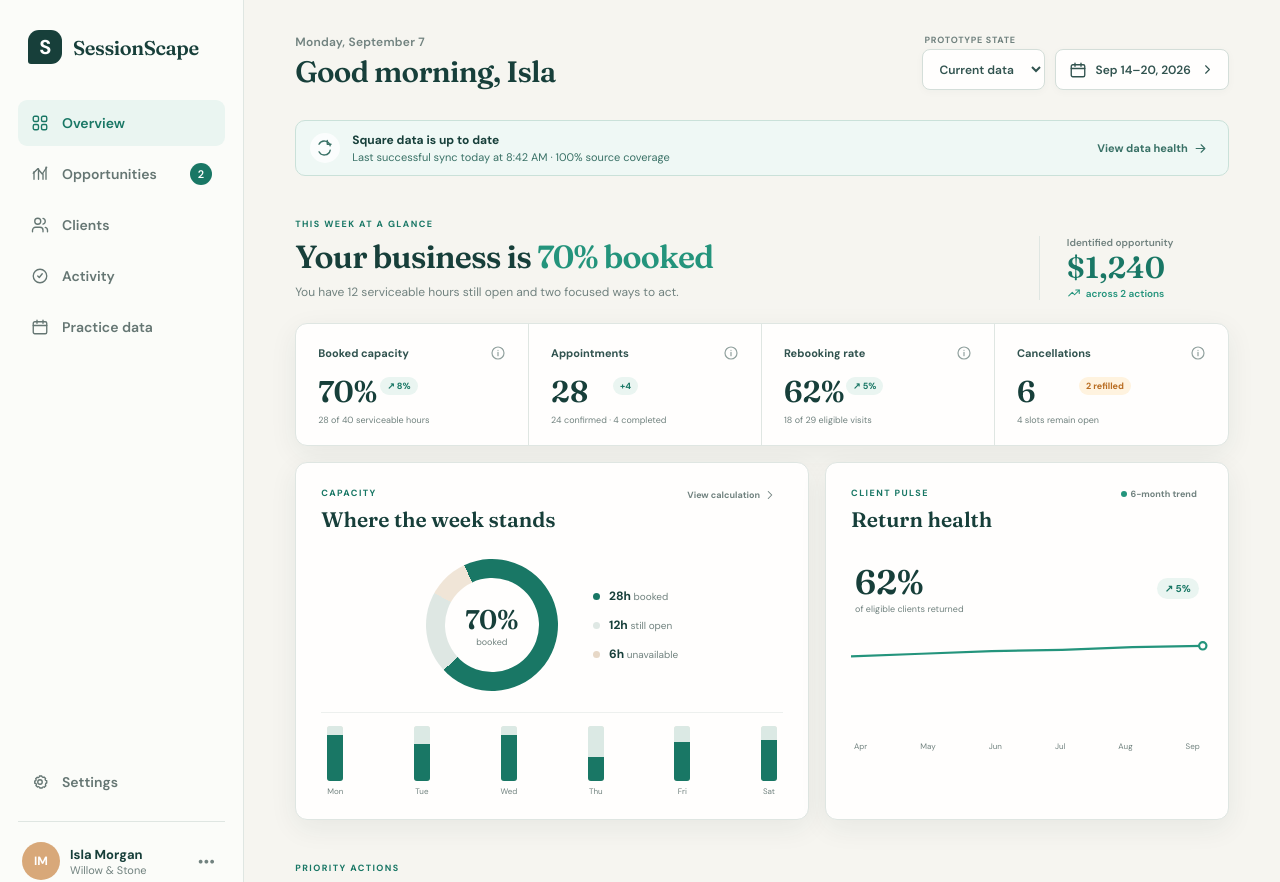
selects the current local week after client hydration
Click the link "Practice data".
click(92, 327)  # box [31,318,153,336]
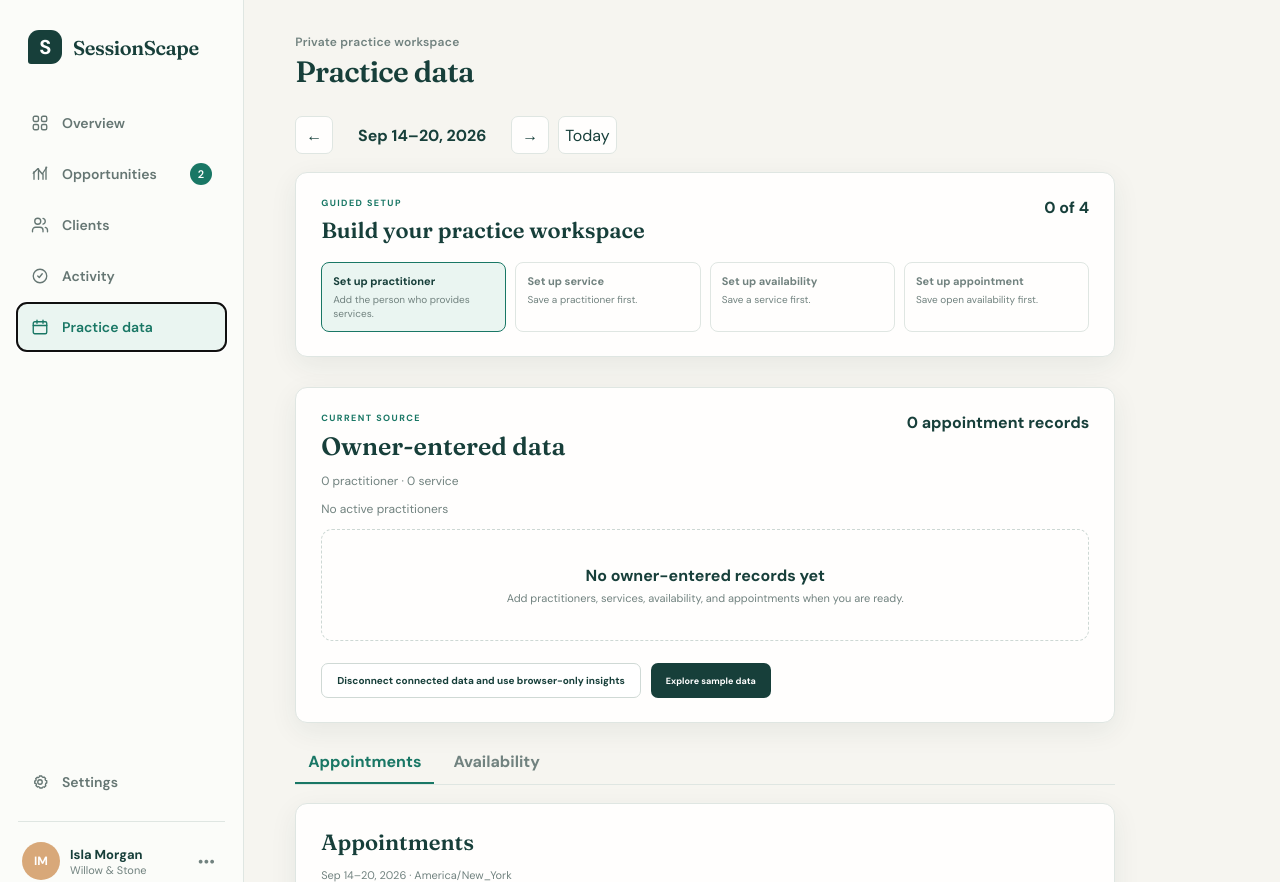
expect the text "Sep 14–20, 2026" is shown: met, box [358,124,486,146]
